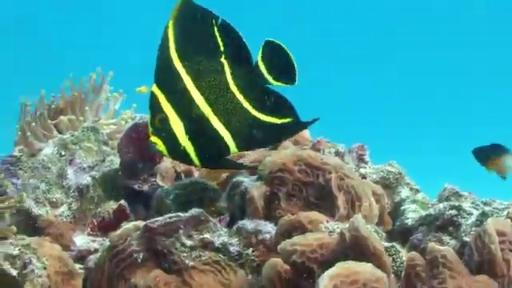Fish: (150, 0, 318, 169)
